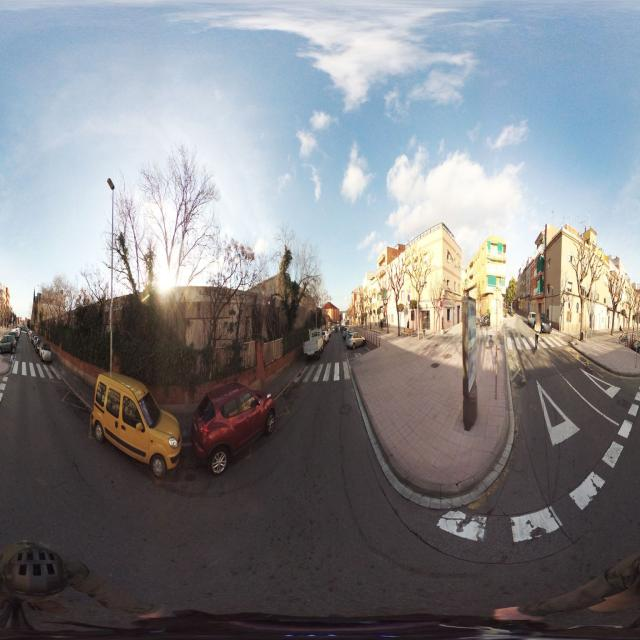forb_stopping: (407, 295, 410, 303)
